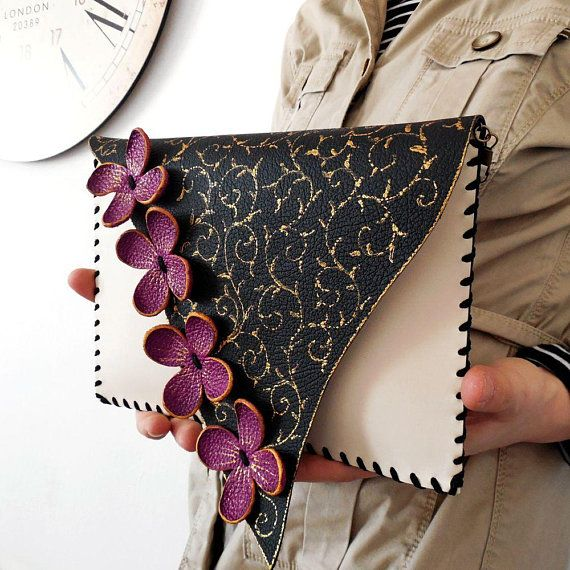cuero: (80, 108, 477, 570)
